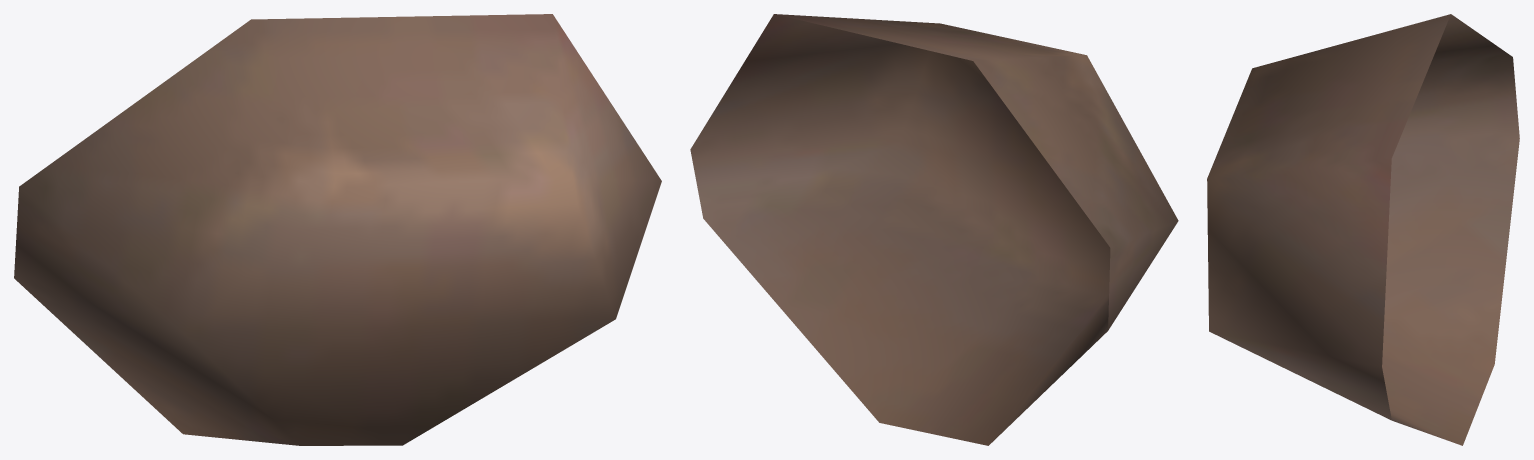
Rendered from Homeworld_Exterior_Common_Prop_Thing_SnowmanNose_01_Vo.fbx.
3 renders of one model, left to right at view 1: azimuth 30°, elevation 25°; view 2: azimuth 150°, elevation 25°; view 3: azimuth 270°, elevation 25°, orthographic. The views are drawn at different scales.
Visible parts, largest first — view 1: Homeworld_Exterior_Common_Prop_Thing_SnowmanNose_01_Vo; view 2: Homeworld_Exterior_Common_Prop_Thing_SnowmanNose_01_Vo; view 3: Homeworld_Exterior_Common_Prop_Thing_SnowmanNose_01_Vo.
Part boxes in pixels (x1,y1,x2,y2): Homeworld_Exterior_Common_Prop_Thing_SnowmanNose_01_Vo: (14, 14, 661, 445); Homeworld_Exterior_Common_Prop_Thing_SnowmanNose_01_Vo: (690, 14, 1178, 445); Homeworld_Exterior_Common_Prop_Thing_SnowmanNose_01_Vo: (1207, 14, 1519, 445).
Size of the model in its own units: 0.1161 by 0.0867 by 0.0634.
